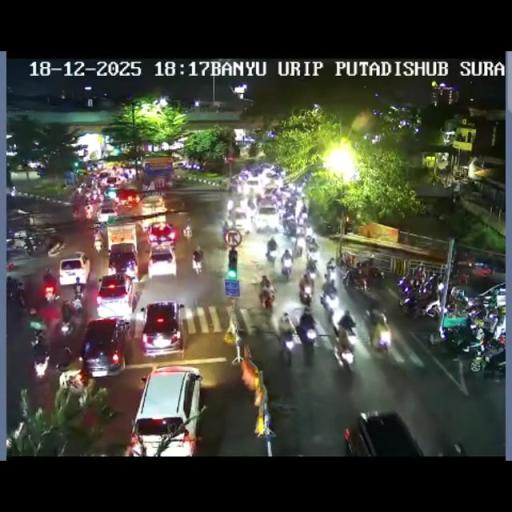Car: (128, 364, 202, 454), (344, 410, 430, 455), (79, 316, 130, 377), (139, 300, 185, 356), (96, 274, 137, 318), (58, 252, 92, 286), (107, 242, 139, 278), (147, 244, 178, 278), (139, 194, 167, 224), (254, 201, 280, 233), (146, 222, 178, 247), (98, 202, 118, 225), (230, 206, 248, 231), (117, 188, 140, 206), (244, 176, 262, 193), (97, 171, 112, 185), (104, 185, 118, 200), (172, 160, 188, 169)
Motorcycle: (253, 261, 391, 371), (10, 269, 86, 376), (263, 220, 317, 281), (399, 278, 441, 318), (434, 317, 476, 354), (467, 334, 504, 374), (344, 262, 384, 297), (296, 314, 318, 362), (331, 325, 355, 366), (370, 317, 392, 353), (278, 324, 296, 362), (267, 398, 298, 418), (32, 343, 50, 377), (54, 345, 74, 372), (464, 300, 488, 322), (321, 284, 339, 311), (66, 368, 91, 386), (298, 277, 314, 303), (26, 307, 42, 332), (70, 284, 85, 310), (258, 286, 274, 310), (46, 239, 66, 257), (24, 235, 40, 256), (59, 315, 74, 337), (30, 328, 45, 350), (6, 276, 20, 299), (43, 285, 59, 305), (412, 263, 426, 285), (280, 256, 293, 278), (16, 288, 29, 310), (485, 312, 498, 334), (450, 441, 469, 456), (282, 217, 296, 237), (115, 320, 130, 338), (191, 254, 203, 275), (325, 263, 337, 284), (292, 239, 304, 259), (322, 220, 338, 235), (306, 235, 318, 254), (265, 245, 277, 264), (306, 258, 318, 276), (88, 188, 102, 203), (183, 218, 193, 238), (94, 220, 108, 234), (120, 168, 134, 182), (295, 223, 307, 239), (457, 270, 469, 284), (93, 236, 102, 254), (236, 178, 246, 194), (298, 204, 307, 221), (226, 198, 234, 216), (9, 186, 16, 196)
